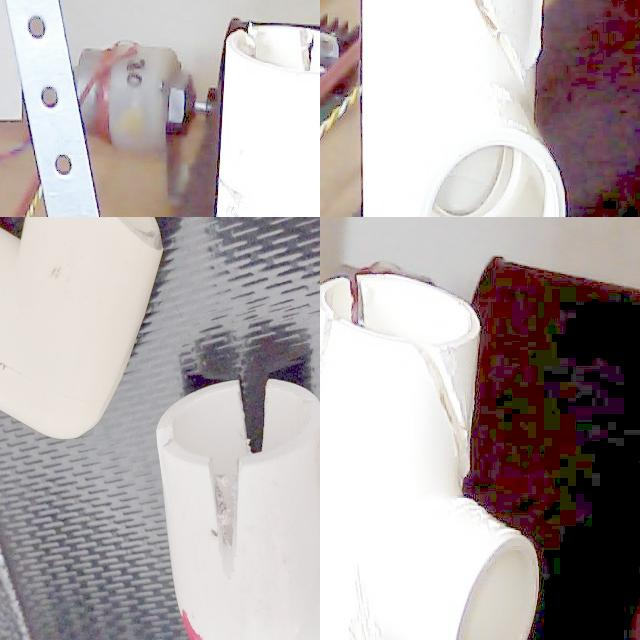Defective: (350, 0, 571, 217), (408, 0, 536, 122), (320, 528, 440, 640), (414, 321, 473, 511), (239, 19, 320, 103), (320, 292, 344, 467), (343, 276, 382, 376), (122, 217, 173, 292), (0, 586, 69, 627), (211, 153, 237, 217)
L Joint: (72, 217, 298, 540), (0, 456, 118, 640)
T Joint: (320, 271, 541, 640), (360, 0, 567, 217), (215, 22, 320, 217)
